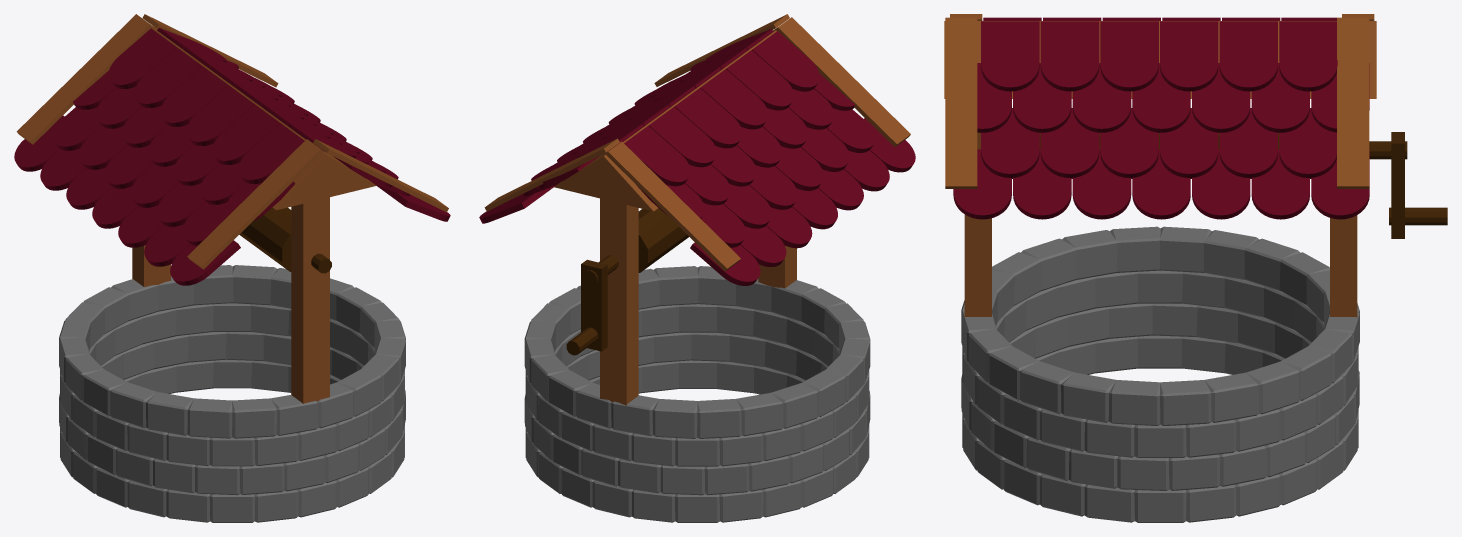
The model's file is Brunnen.glb.
3 views of the same model, side by side, from view 1: azimuth 30°, elevation 25°; view 2: azimuth 150°, elevation 25°; view 3: azimuth 270°, elevation 25° (orthographic). The views are drawn at different scales.
Visible parts, largest first — view 1: Cube.007; view 2: Cube.007; view 3: Cube.007.
Part boxes in pixels (x1,y1,x2,y2): Cube.007: [14, 14, 450, 522]; Cube.007: [479, 14, 915, 522]; Cube.007: [944, 14, 1447, 522].
Bounding box in the file's own units: 2.18 × 2.56 × 2.75.
Materials: 1 (1 with a texture image).
